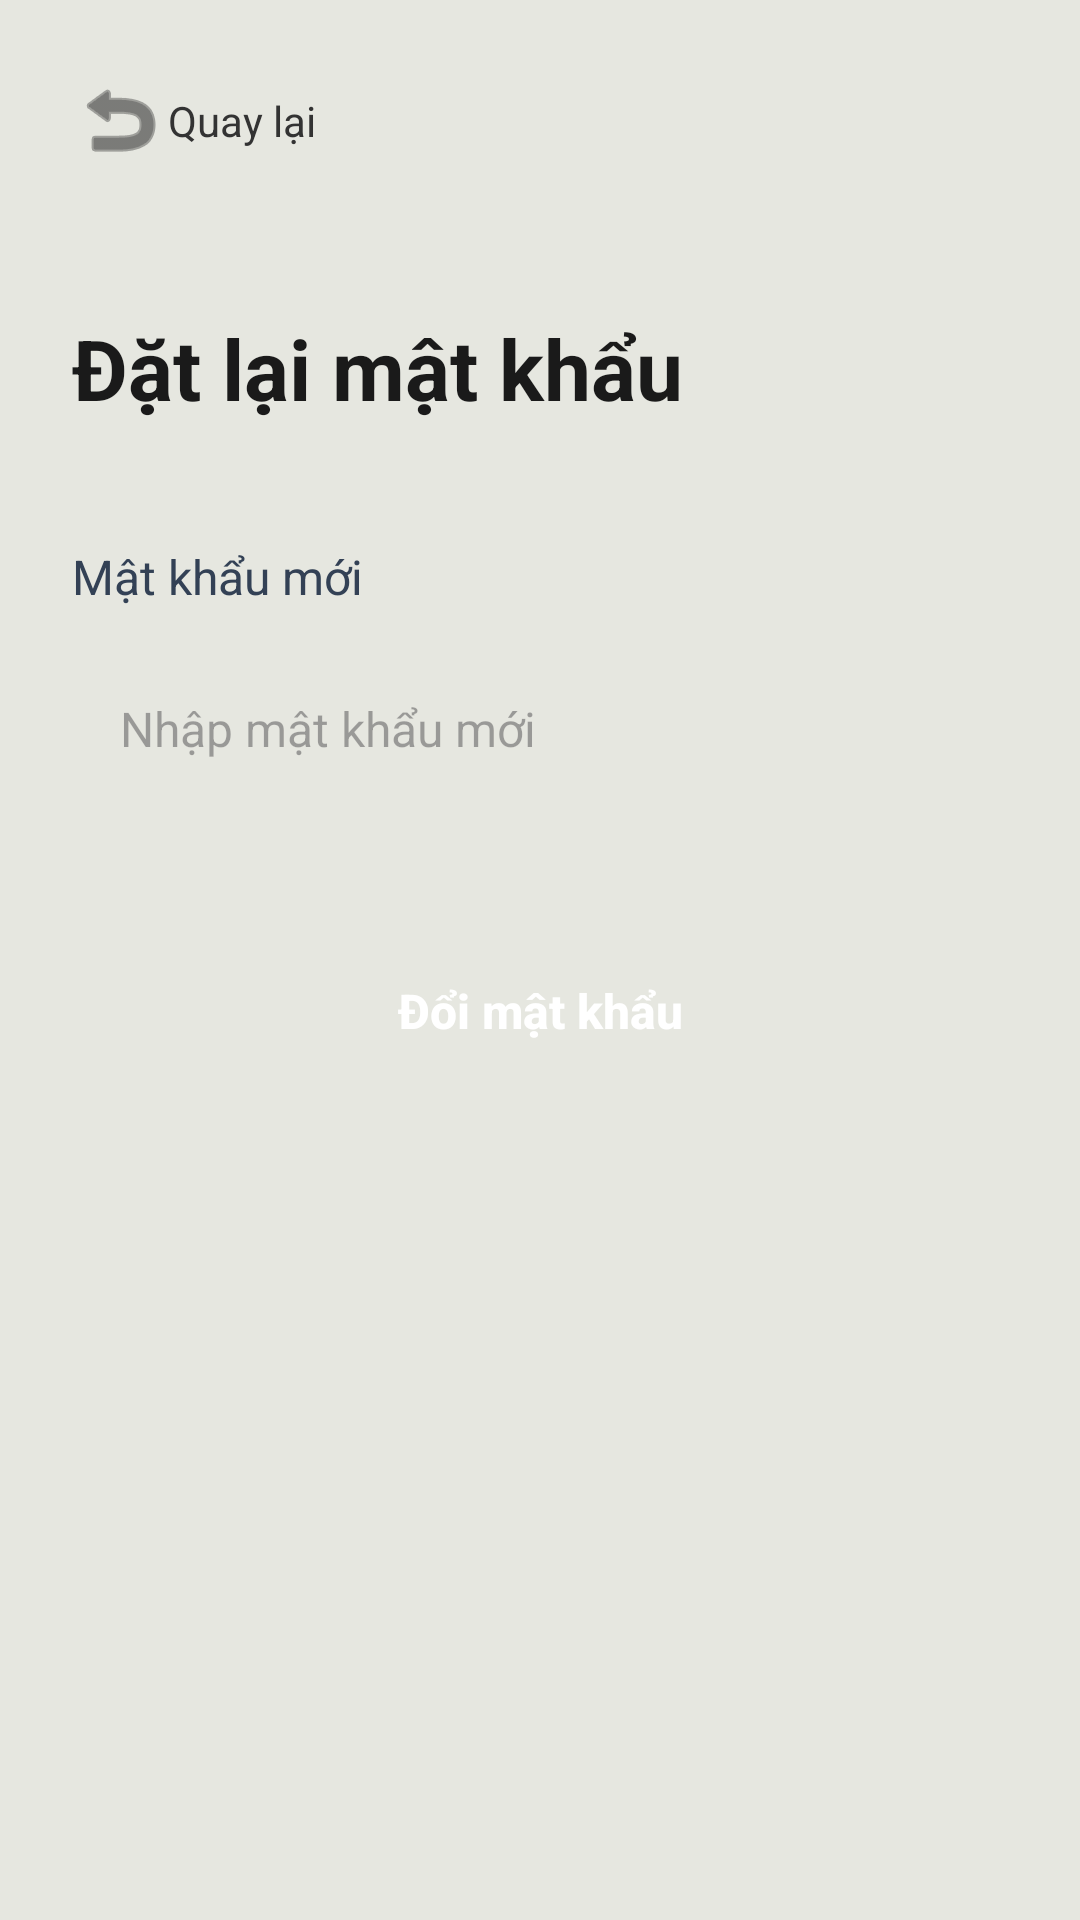

Icons on this 1080×1920 Android screen, each with the point to tap as [x,y]:
revert: [121,120]
